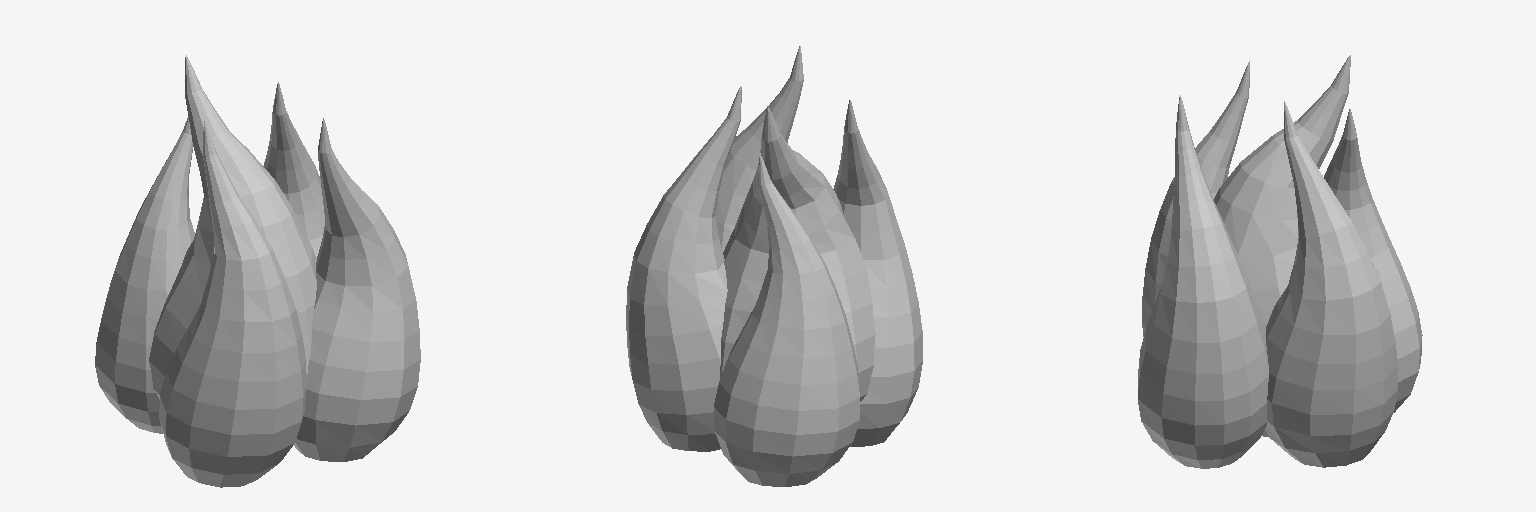
Rendered from fire_000055.obj.
3 views of the same model, side by side, from view 1: azimuth 30°, elevation 25°; view 2: azimuth 150°, elevation 25°; view 3: azimuth 270°, elevation 25° (orthographic).
Visible parts, largest first — view 1: flame_NurbsPath.015; view 2: flame_NurbsPath.015; view 3: flame_NurbsPath.015.
Part boxes in pixels (x1,y1,x2,y2): flame_NurbsPath.015: (95,55,420,487); flame_NurbsPath.015: (626,46,922,486); flame_NurbsPath.015: (1138,55,1422,468).
Bounding box in the file's own units: 0.7649 × 1.14 × 0.8002.